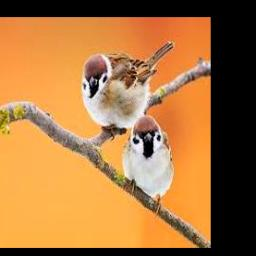Sparrow: (82, 41, 175, 141), (122, 114, 174, 216)
